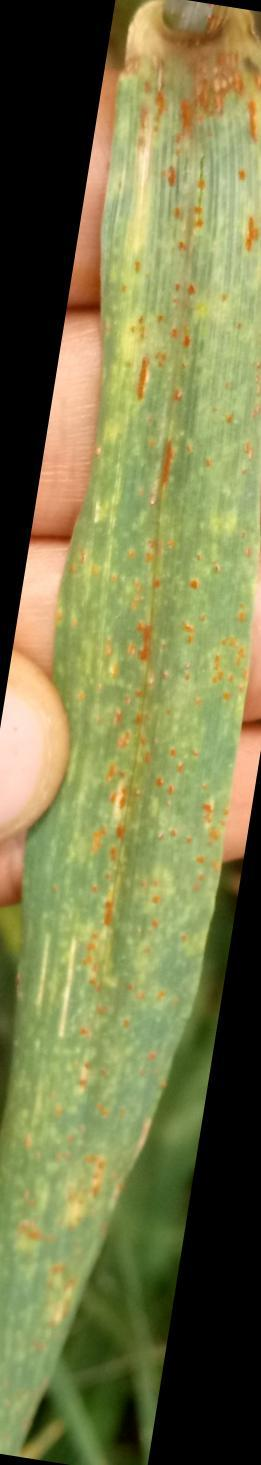Wheat: (52, 39, 245, 1044)
